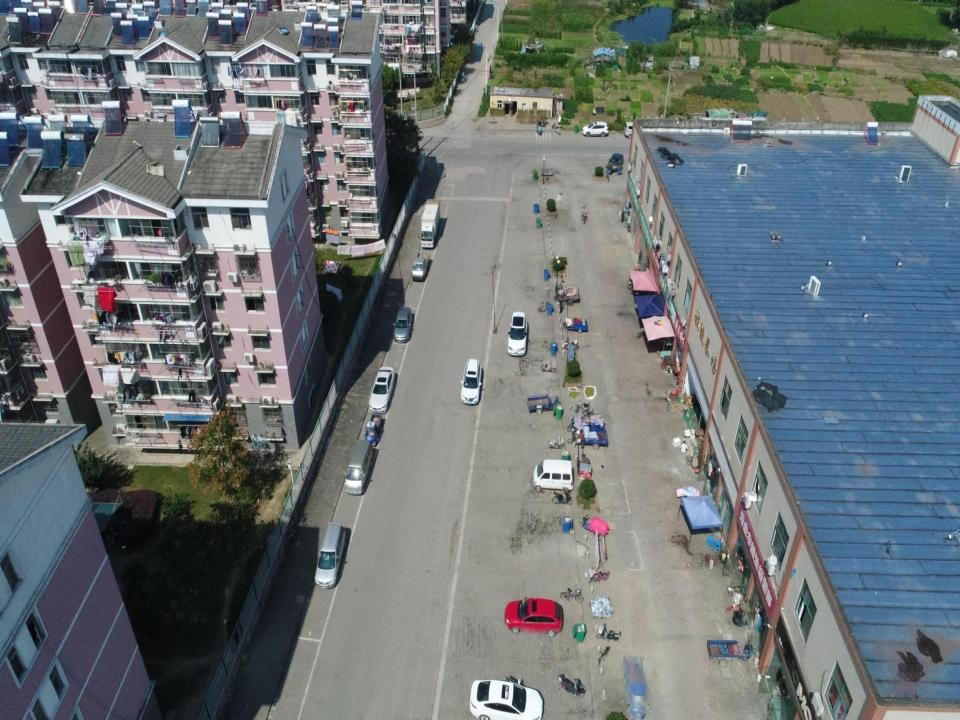car: (470, 680, 543, 720), (504, 597, 564, 637), (368, 366, 395, 413), (506, 310, 528, 356), (393, 306, 412, 344), (582, 120, 608, 137), (607, 152, 624, 172)
truck: (418, 198, 440, 249), (411, 251, 430, 281)
van: (313, 520, 347, 589), (344, 439, 374, 495), (532, 459, 573, 493), (460, 358, 482, 404), (624, 122, 633, 138)
